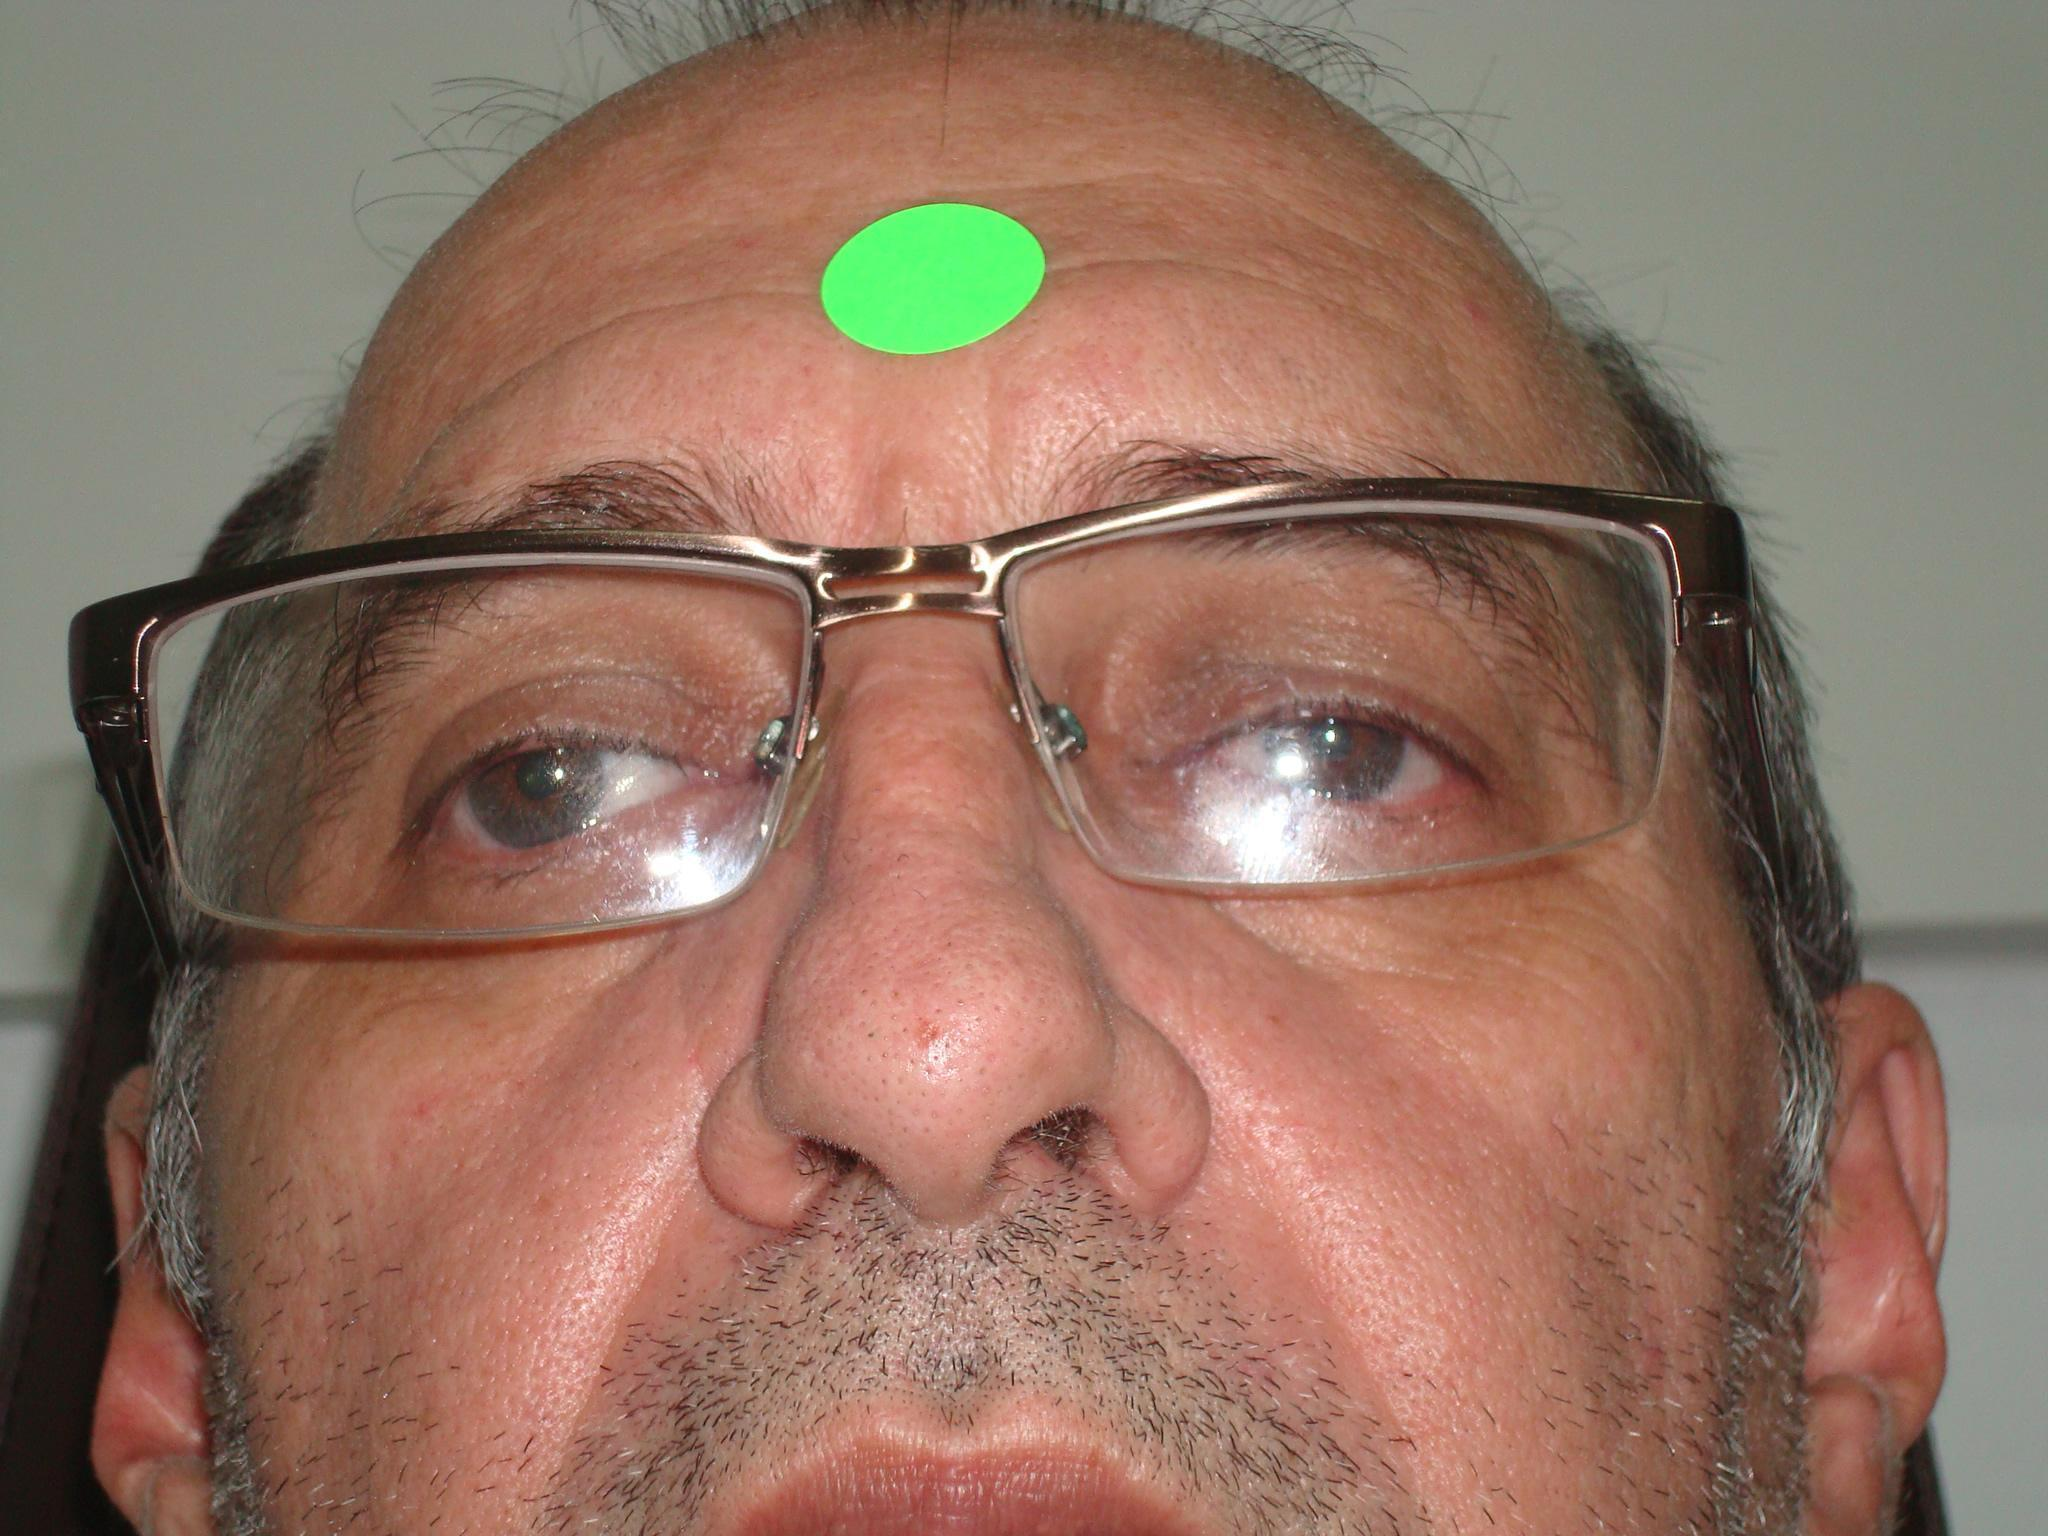flash: (550, 763, 569, 784), (1321, 728, 1342, 745)
limbo: (461, 713, 611, 841), (1263, 681, 1398, 803)
